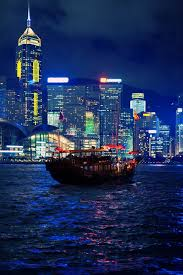boat: (45, 140, 139, 185)
